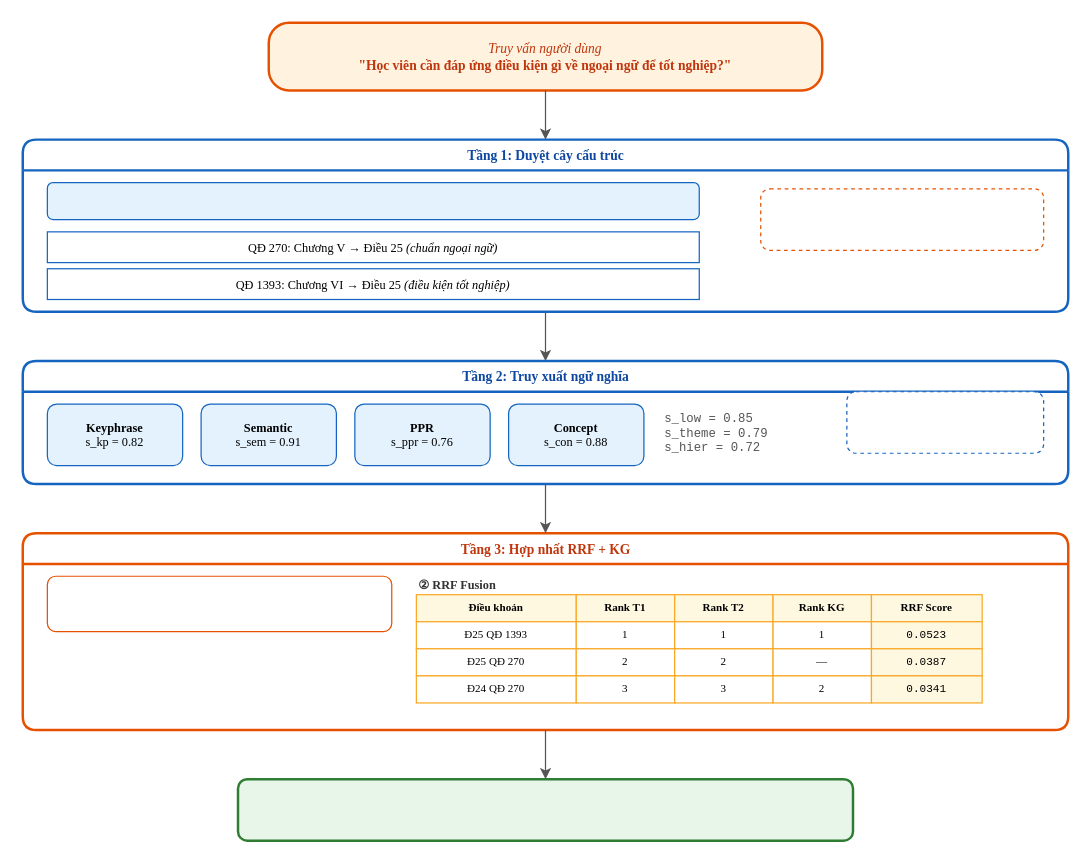
The diagram is 1090 pixels wide and 862 high, and some of its shapes have lost their labels. Each missing label, with the centre of its shape:
"Kết quả trả về Top-3 kết quả: Đ25 QĐ 1393 · Đ25 QĐ 270 · Đ24 QĐ 270" goes at [545,809].
"Rừng cây (5 văn bản) → LLM → QĐ 270 , QĐ 1393" goes at [372,200].
"Đầu ra C₁ C₁ = {Đ25-270, Đ25-1393, Đ24-270}" goes at [902,219].
"Đầu ra C₂ C₂ = {Đ25-1393, Đ25-270, Đ12-270}" goes at [945,422].
"① Mở rộng KG Đ25-1393 → references → Đ24-270" goes at [219,603].
